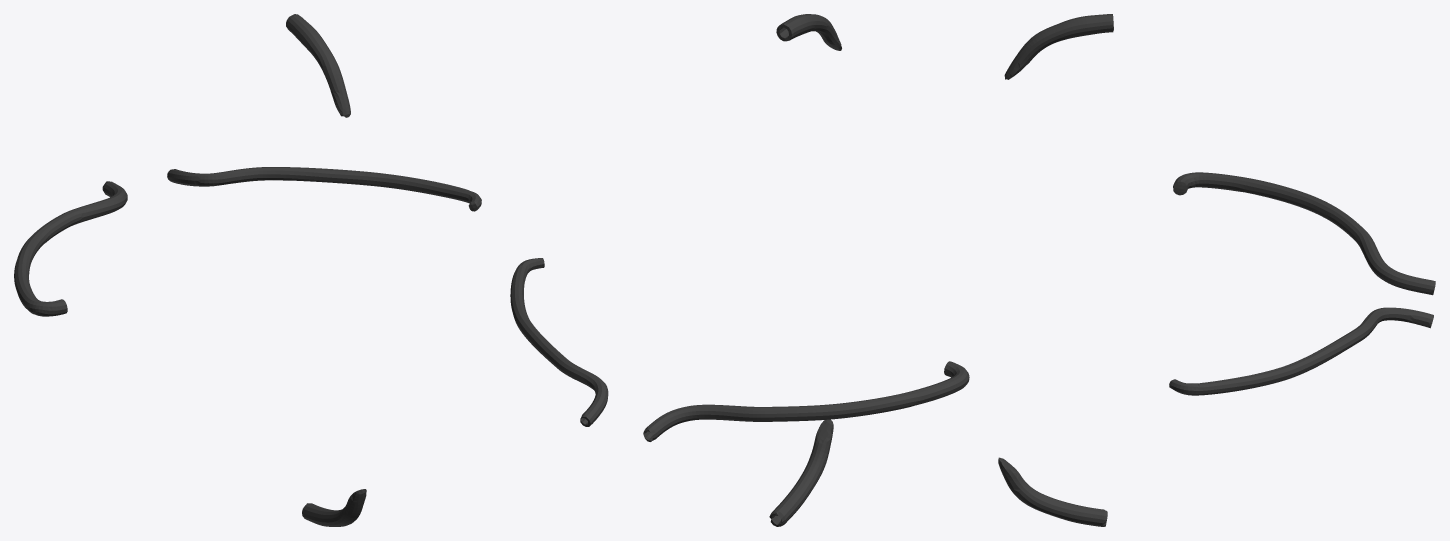
Rendered from AAs.glb.
The picture shows the model from 3 angles, left to right: view 1: azimuth 30°, elevation 25°; view 2: azimuth 150°, elevation 25°; view 3: azimuth 270°, elevation 25°; orthographic projection.
Visible parts, largest first — view 1: AAs; view 2: AAs; view 3: AAs.
Boxes of the visible parts, x1,y1,x2,y2 form: AAs: [14, 14, 481, 526]; AAs: [510, 14, 969, 526]; AAs: [998, 14, 1435, 526].
Bounding box in the file's own units: 1.95 × 2.1 × 1.65.
Materials: 1 (1 with a texture image).
